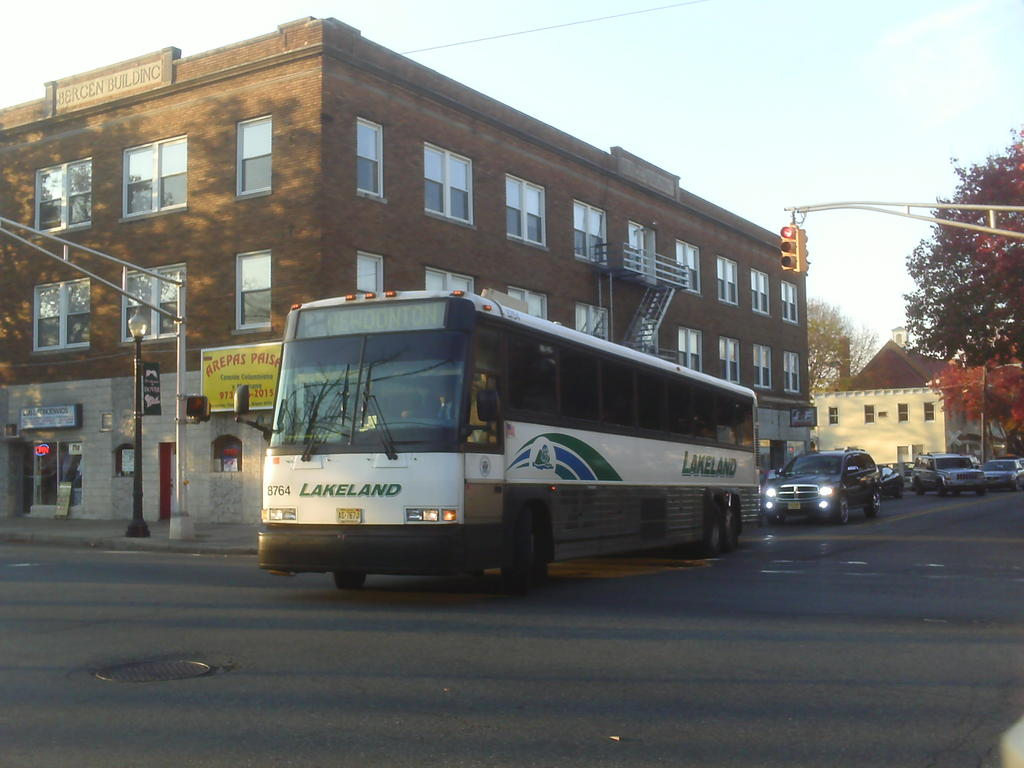cars: (774, 452, 883, 532), (909, 452, 984, 495), (977, 457, 1023, 486), (873, 461, 900, 494), (904, 465, 913, 484), (1017, 454, 1023, 470)
